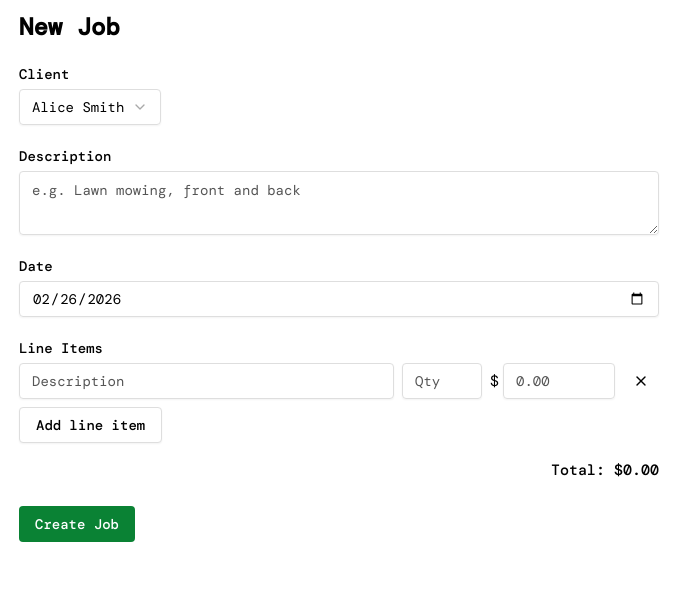
Test: JobNew page › shows validation error when submitting with no valid line items
Expected: the dropdown is shown, [19,89,161,125]
Note: Submit with empty line items (client is pre-selected)
Step 1. Click the button "Create Job" → (77, 524), box [19,506,135,542]
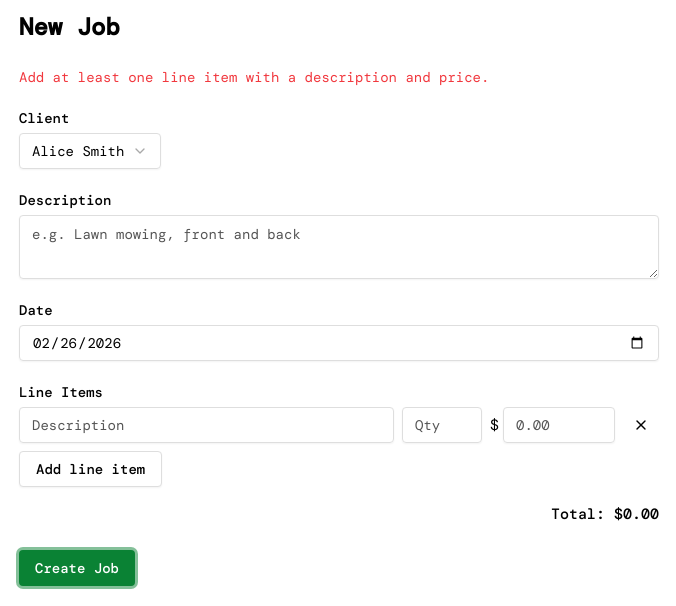
Result: the message "Add at least one line item with a description and price." is shown at [19,68,489,86]
